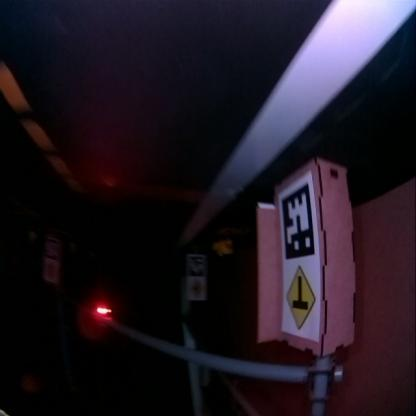Duckie: (221, 242, 231, 255), (212, 244, 222, 256)
Intersection sign: (283, 266, 316, 332)
QR code: (282, 183, 314, 261), (187, 256, 204, 274), (45, 240, 59, 258)
Traffic light: (93, 306, 112, 320)
